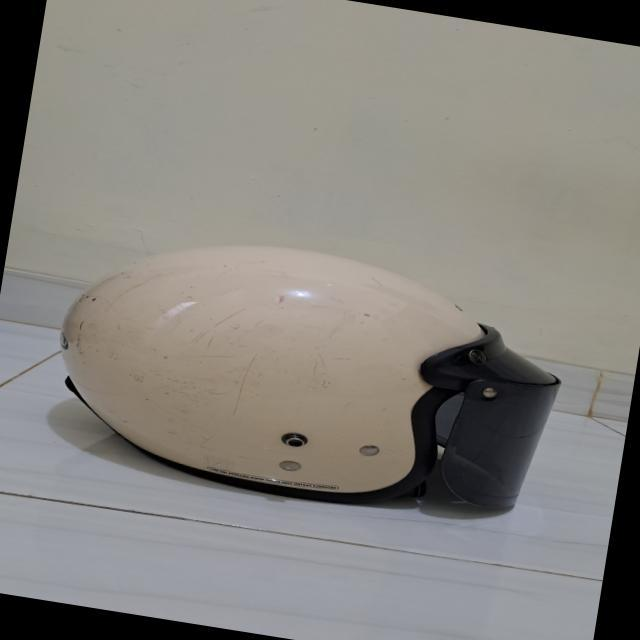Helm: (39, 208, 584, 540)
